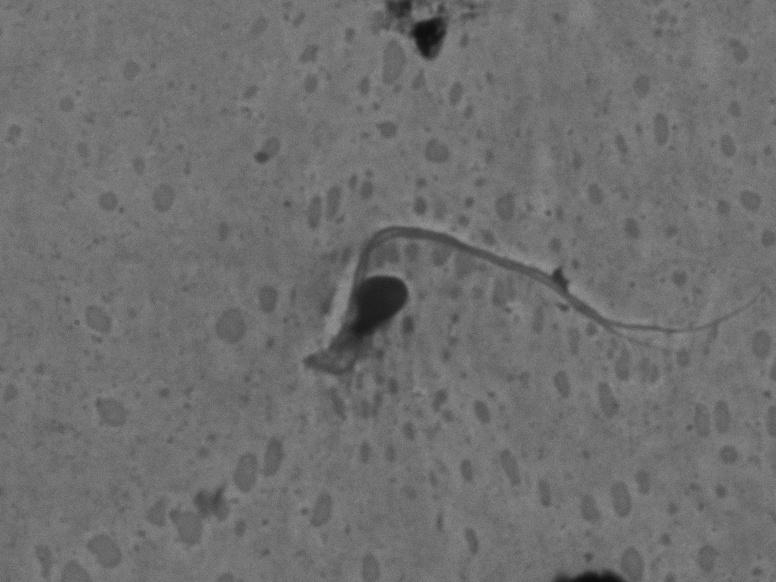Abnormal: (313, 198, 762, 423)
